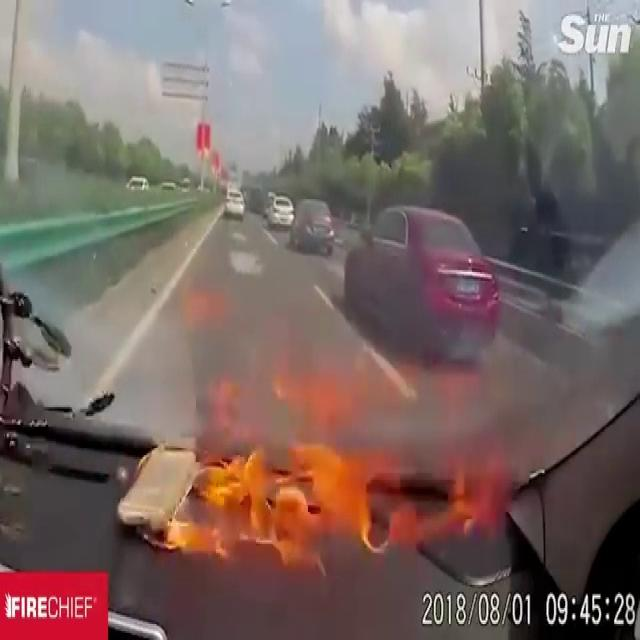fire: (167, 413, 522, 575)
